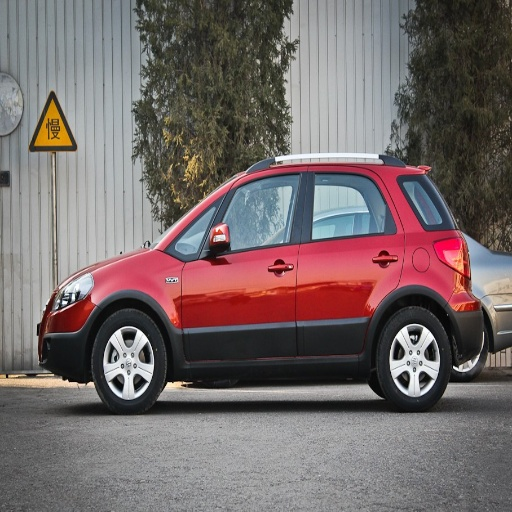back_bumper: (455, 295, 492, 358)
back_glass: (401, 177, 450, 229)
back_left_door: (296, 167, 404, 356)
front_left_door: (179, 168, 308, 362)
